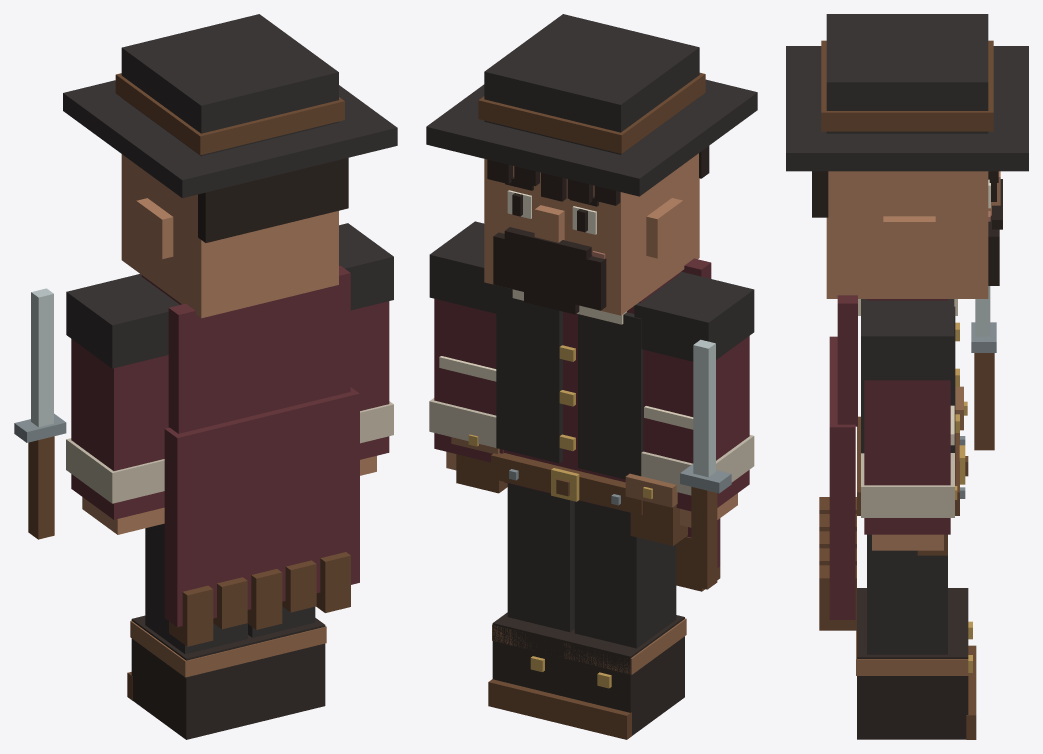
The model's file is bandit_leader.obj.
3 views of the same model, side by side, from view 1: azimuth 30°, elevation 25°; view 2: azimuth 150°, elevation 25°; view 3: azimuth 270°, elevation 25° (orthographic). The views are drawn at different scales.
Parts seen in each view (by area): view 1: head, equipment_back, right_arm, right_leg, left_arm, left_leg, equipment_right; view 2: head, body, right_leg, right_arm, left_leg, left_arm, equipment_right, equipment_back; view 3: head, left_arm, left_leg, equipment_back, equipment_right, body, right_leg.
Boxes of the visible parts, x1,y1,x2,y2 form: head: [63, 14, 397, 318]; equipment_back: [164, 265, 359, 646]; right_arm: [66, 274, 179, 534]; right_leg: [127, 523, 259, 739]; left_arm: [339, 223, 393, 475]; left_leg: [248, 606, 326, 722]; equipment_right: [14, 288, 66, 539]; head: [426, 14, 757, 315]; body: [451, 272, 687, 545]; right_leg: [555, 500, 686, 739]; right_arm: [634, 271, 754, 527]; left_leg: [488, 483, 574, 723]; left_arm: [429, 221, 503, 470]; equipment_right: [680, 339, 731, 589]; equipment_back: [676, 258, 720, 591]; head: [786, 14, 1028, 298]; left_arm: [861, 299, 954, 550]; left_leg: [856, 534, 976, 739]; equipment_back: [819, 295, 857, 630]; equipment_right: [971, 286, 996, 450]; body: [857, 299, 968, 555]; right_leg: [857, 588, 976, 679].
Size of the model in its own units: 1.14 by 2.24 by 0.75.
